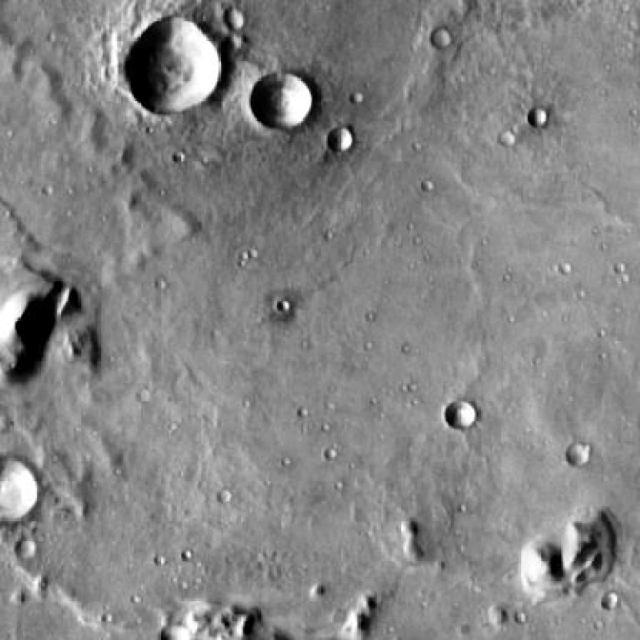crater: (122, 17, 218, 111), (256, 73, 310, 127), (1, 457, 42, 521), (448, 402, 477, 431), (330, 129, 353, 149), (529, 107, 551, 127), (232, 8, 253, 28), (431, 28, 452, 48), (566, 443, 586, 463), (15, 540, 34, 560), (498, 129, 517, 146), (602, 594, 618, 609)
